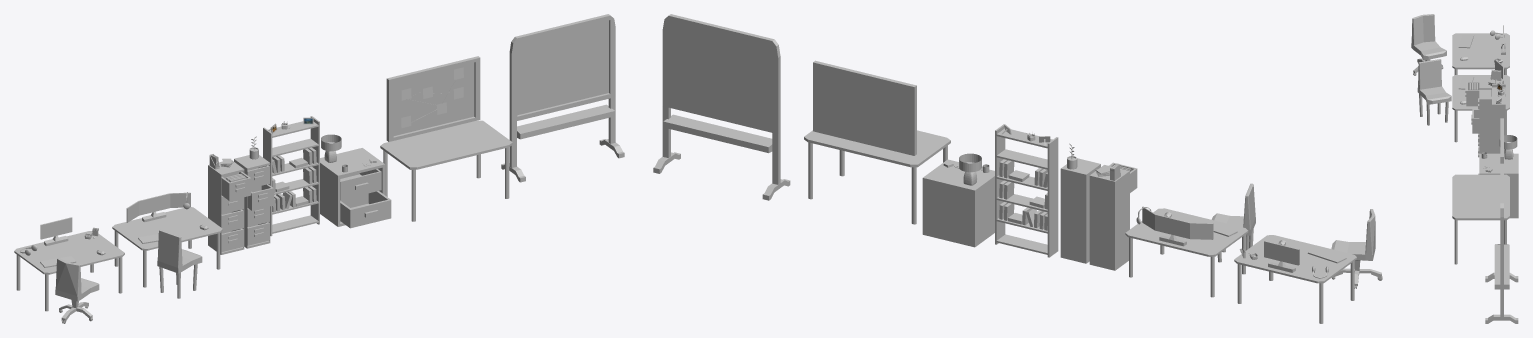
The model's file is Office_Props.fbx.
The picture shows the model from 3 angles, left to right: view 1: azimuth 30°, elevation 25°; view 2: azimuth 150°, elevation 25°; view 3: azimuth 270°, elevation 25°; orthographic projection. The views are drawn at different scales.
Visible parts, largest first — view 1: Whiteboard, WoodBoard, Table3, Shelves1, Table2, Table1, Drawers3, Seat2, Seat1, Drawer.001, Drawers2, Triple Monitor (+10 smaller); view 2: Whiteboard, WoodBoard, Drawers3, Shelves1, Drawers2, Table2, Drawers, Table3, Table1, Triple Monitor, Seat2, Seat1 (+2 smaller); view 3: Table3, Table2, Whiteboard, Seat1, Seat2, Drawers3, Table1, Drawers, Shelves1, Drawer.009, Lamp, Drawer.003 (+6 smaller).
Boxes of the visible parts, bbox=[...] form: Whiteboard: bbox=[501, 14, 624, 182]; WoodBoard: bbox=[386, 56, 480, 141]; Table3: bbox=[380, 120, 512, 221]; Shelves1: bbox=[263, 116, 319, 236]; Table2: bbox=[14, 231, 124, 311]; Table1: bbox=[112, 207, 222, 287]; Drawers3: bbox=[320, 148, 385, 226]; Seat2: bbox=[55, 258, 99, 323]; Seat1: bbox=[157, 229, 202, 298]; Drawer.001: bbox=[340, 191, 391, 228]; Drawers2: bbox=[208, 161, 244, 254]; Triple Monitor: bbox=[126, 192, 190, 222]; Whiteboard: bbox=[653, 14, 790, 200]; WoodBoard: bbox=[813, 60, 916, 155]; Drawers3: bbox=[922, 159, 994, 247]; Shelves1: bbox=[995, 124, 1058, 257]; Drawers2: bbox=[1089, 165, 1129, 270]; Table2: bbox=[1234, 235, 1356, 323]; Drawers: bbox=[1060, 158, 1100, 263]; Table3: bbox=[804, 130, 950, 224]; Table1: bbox=[1125, 208, 1248, 297]; Triple Monitor: bbox=[1142, 206, 1213, 246]; Seat2: bbox=[1331, 209, 1382, 288]; Seat1: bbox=[1211, 183, 1255, 262]; Table3: bbox=[1452, 174, 1509, 264]; Table2: bbox=[1452, 33, 1509, 74]; Whiteboard: bbox=[1485, 163, 1518, 323]; Seat1: bbox=[1417, 59, 1451, 125]; Seat2: bbox=[1411, 14, 1446, 75]; Drawers3: bbox=[1479, 153, 1518, 218]; Table1: bbox=[1452, 75, 1509, 142]; Drawers: bbox=[1479, 89, 1491, 153]; Shelves1: bbox=[1492, 84, 1505, 153]; Drawer.009: bbox=[1465, 82, 1479, 106]; Lamp: bbox=[1499, 135, 1517, 159]; Drawer.003: bbox=[1471, 109, 1479, 133].
Bounding box in the file's own units: 1225 × 266 × 218.
